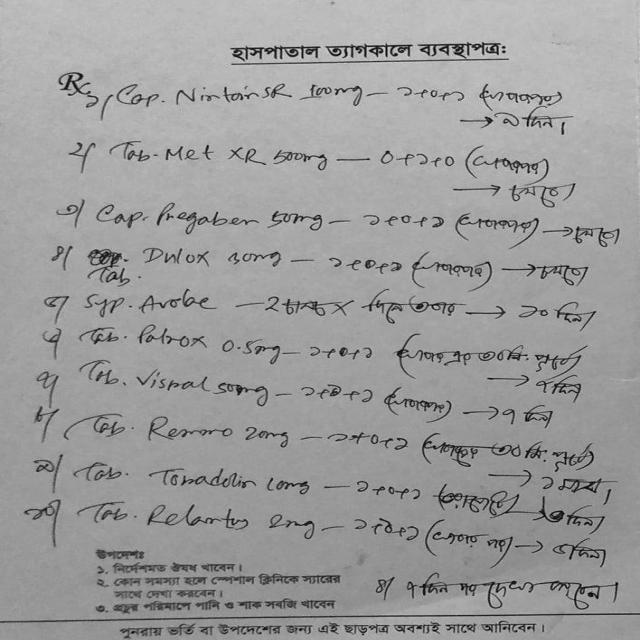medicine: (140, 465, 262, 494), (140, 412, 238, 446), (157, 142, 266, 170), (166, 83, 294, 104), (130, 366, 212, 394), (141, 238, 216, 268), (130, 326, 214, 352), (136, 289, 218, 315)
